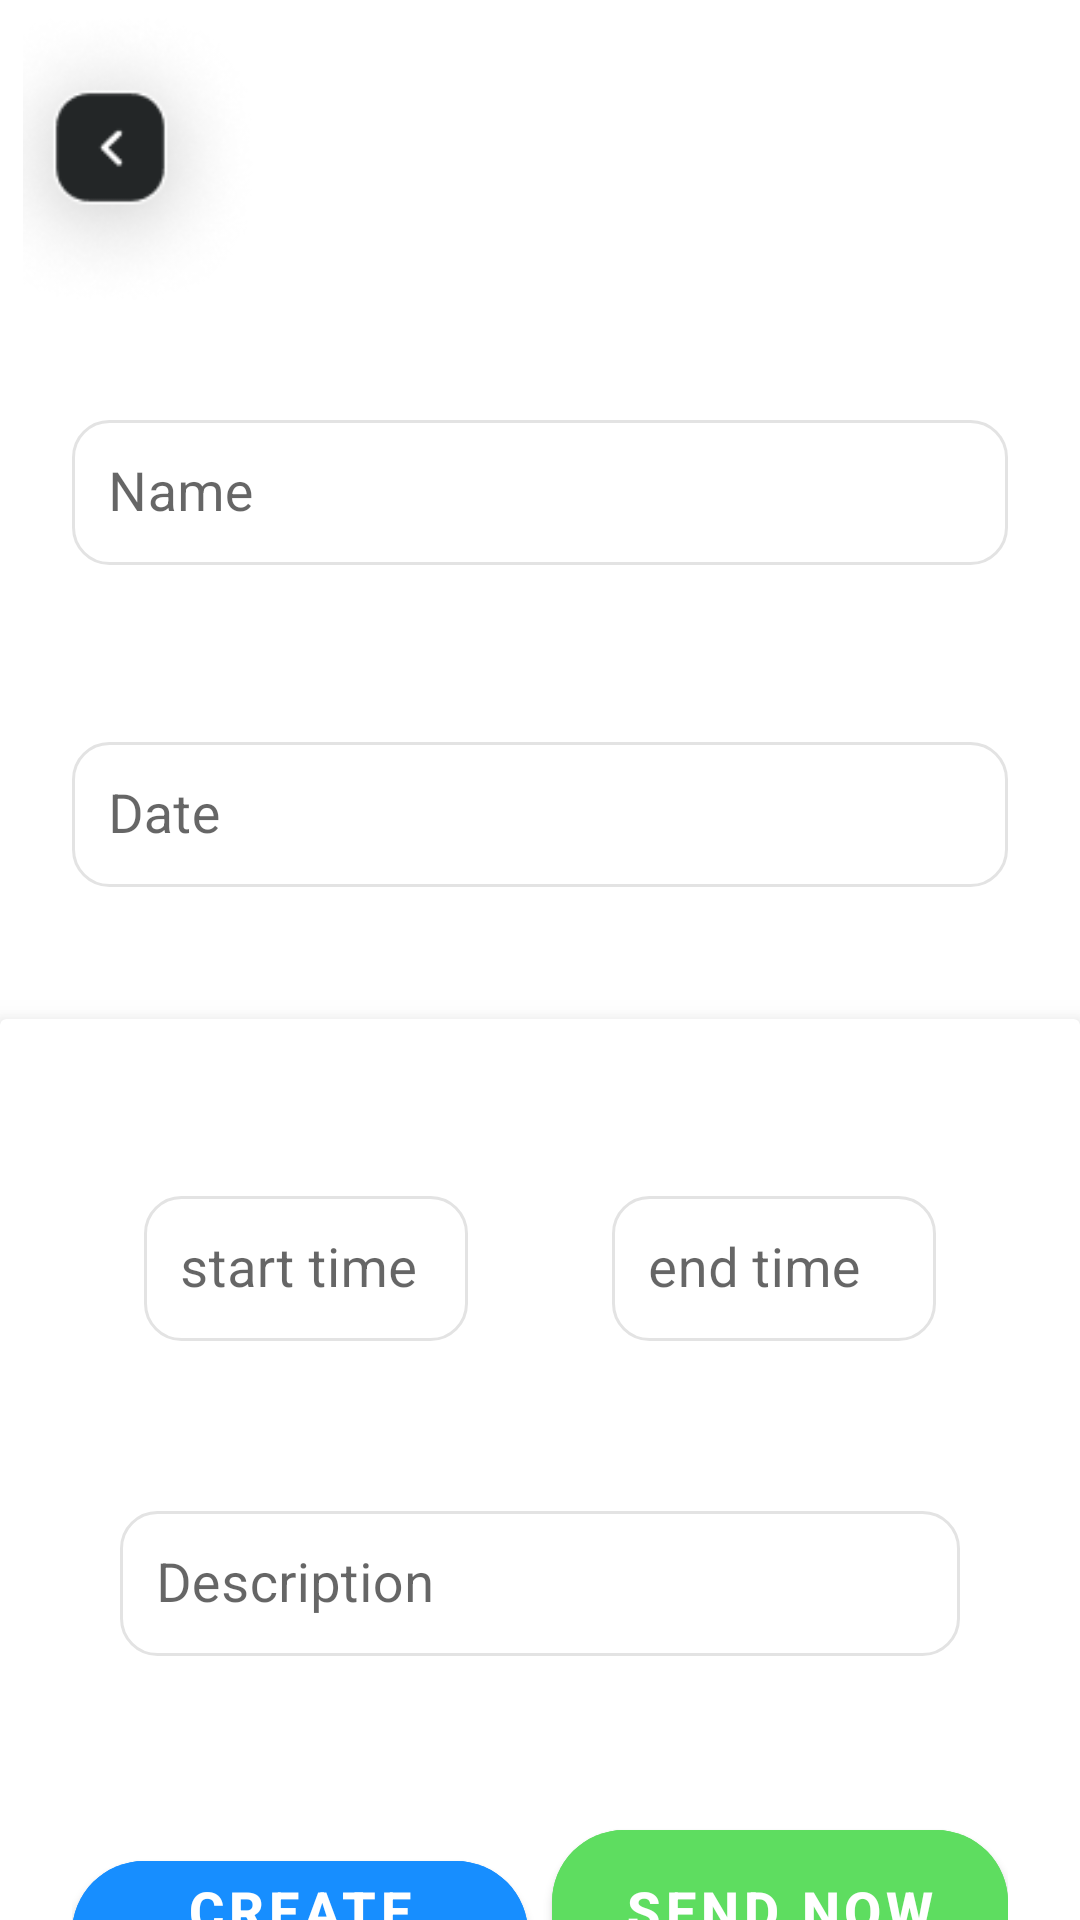

Where icons sit on this 1080*1920 app screen, as (x1, y1, x2, y2):
back: (55, 92, 165, 214)
